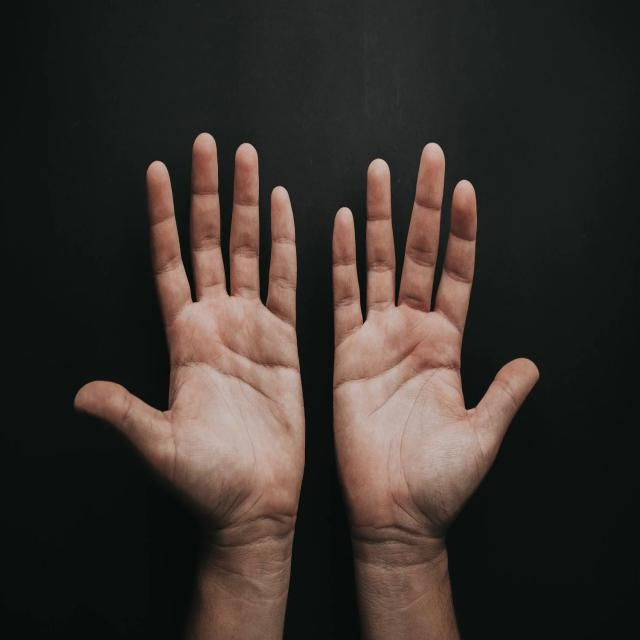hand palm open: (327, 117, 542, 519), (76, 132, 297, 506)
